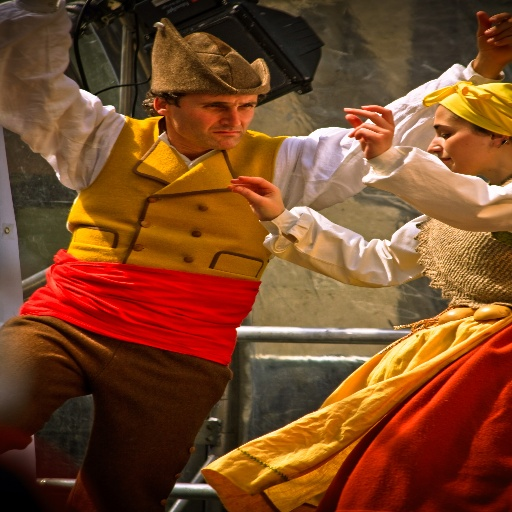hand: (342, 104, 397, 159), (223, 169, 289, 210), (468, 10, 511, 66)
